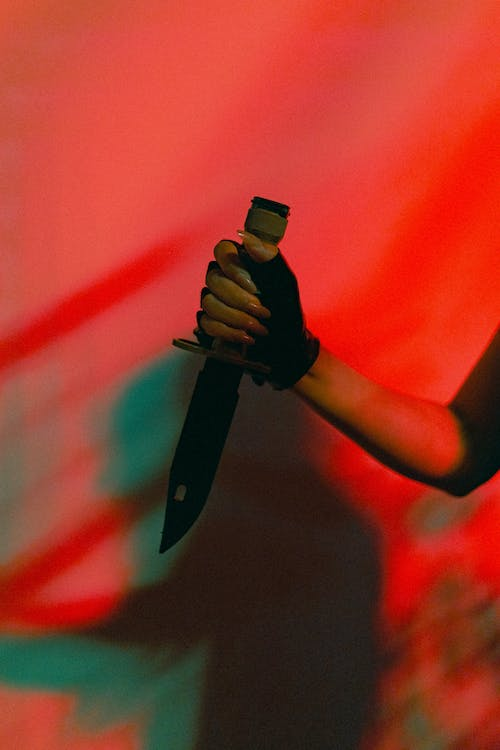knife: (153, 192, 292, 559)
